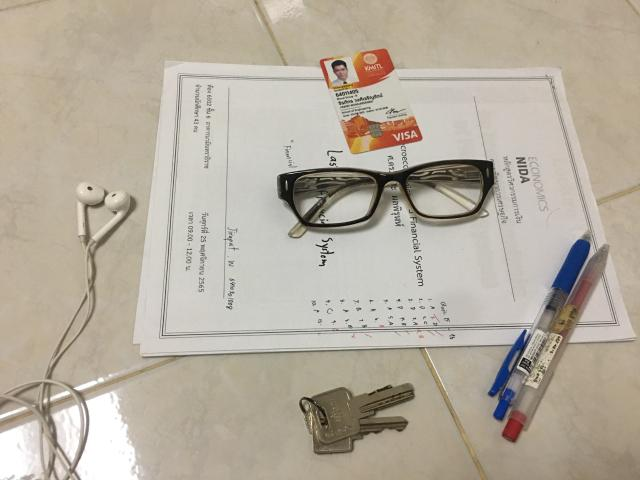Glasses: (278, 160, 494, 238)
Keys: (300, 384, 414, 454)
Pen: (489, 231, 609, 441)
paper: (134, 63, 637, 356)
wire: (0, 181, 130, 479)
